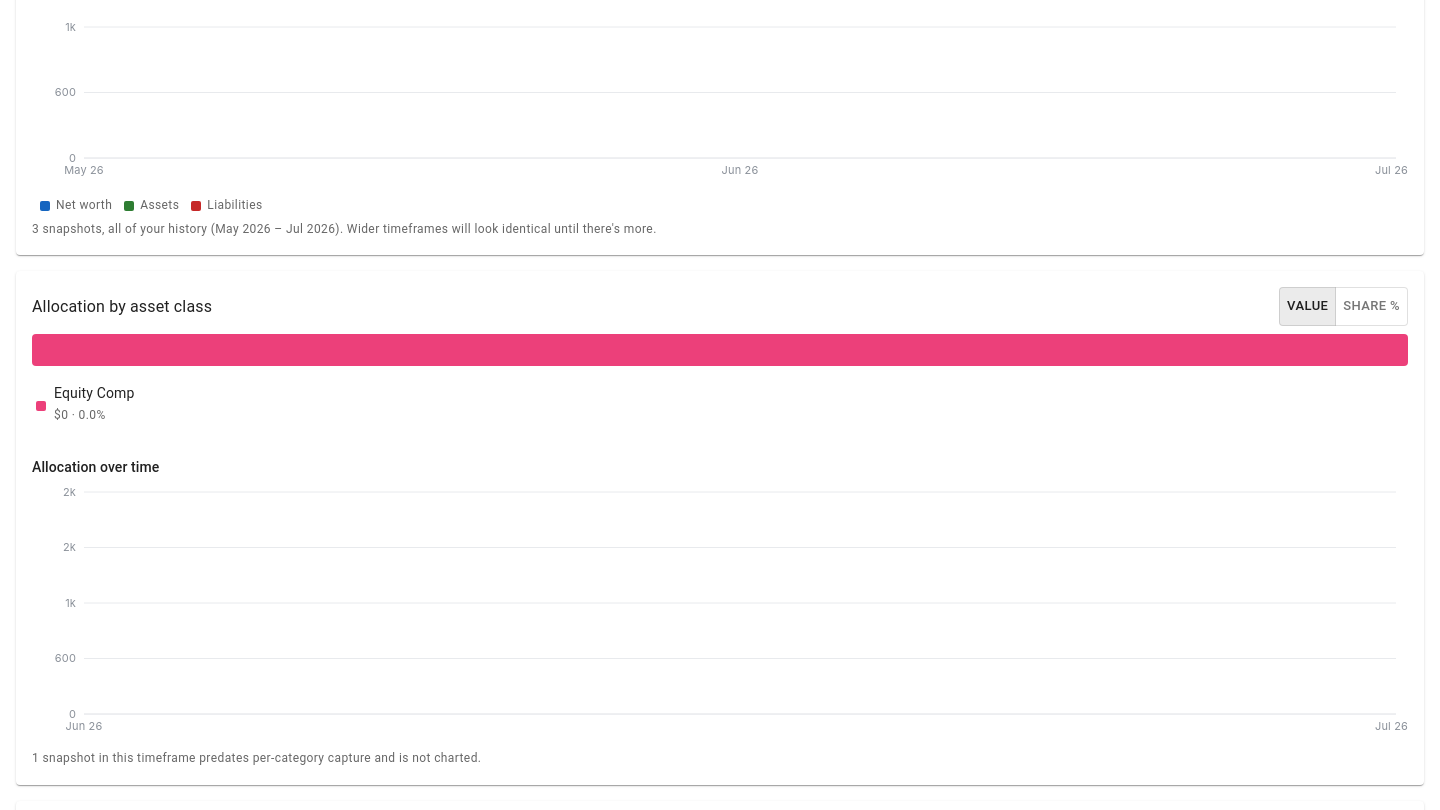
Test case: a grant with a missing price is flagged rather than silently zeroed
(page scrolled)
Click the button "Equity Comp $0 · 0.0%". click: (87, 406)
box: [32, 378, 142, 433]
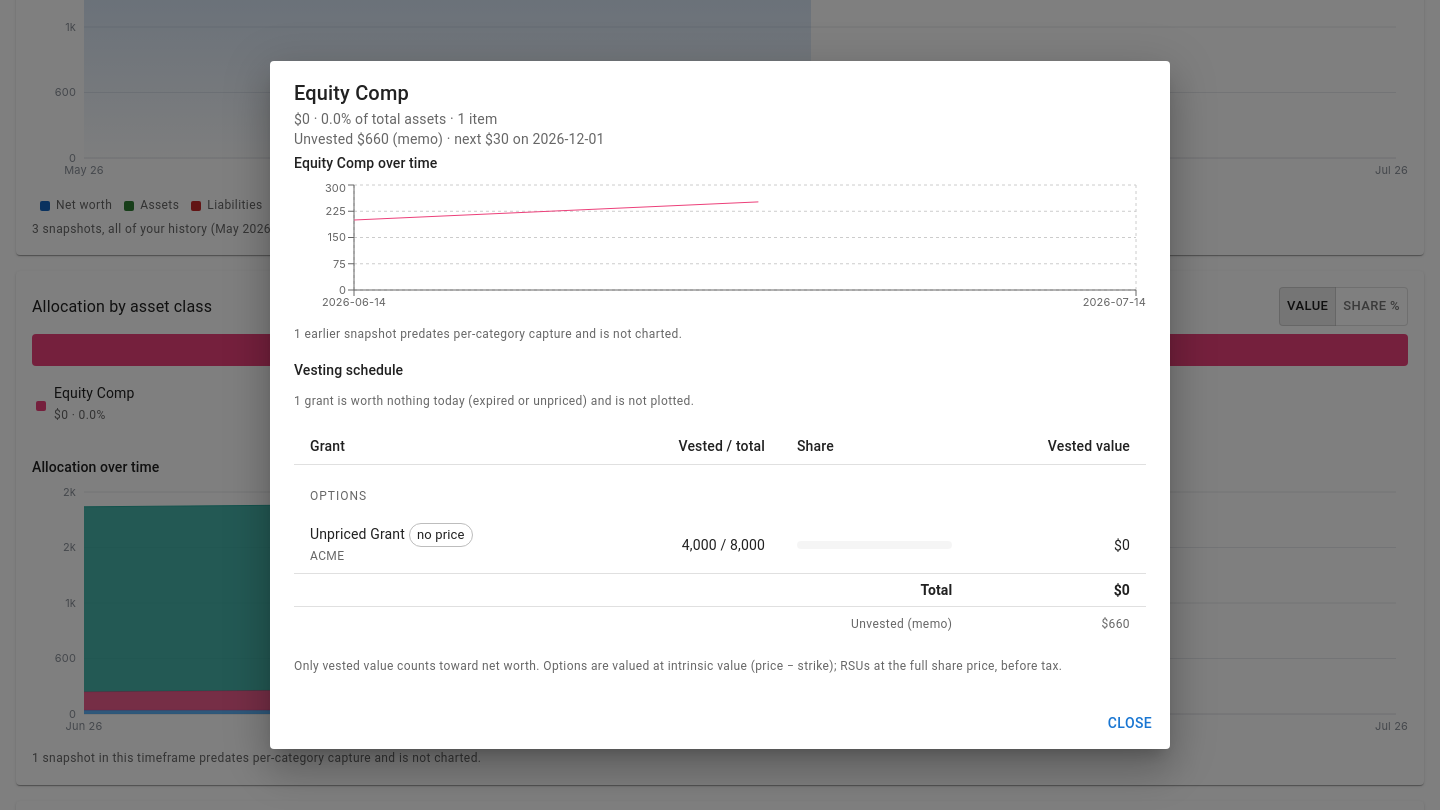
Result: the text "Unpriced Grant" is shown at [310, 526, 405, 542]
Result: the text "no price" is shown at [417, 527, 465, 542]
Result: the text "worth nothing today (expired or unpriced)" is shown at [294, 394, 694, 408]
